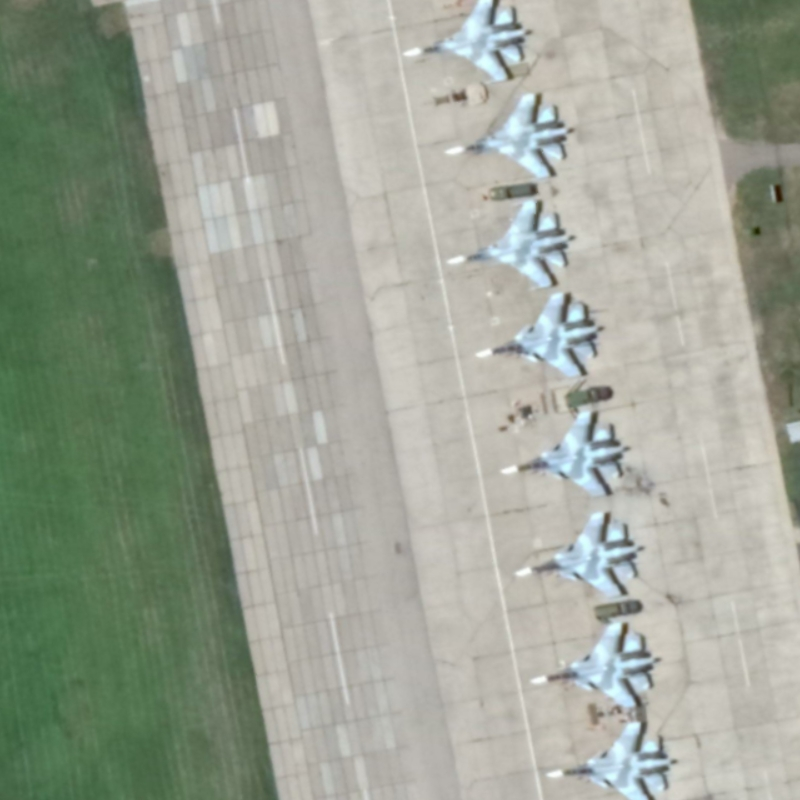A1: (444, 197, 570, 293), (441, 90, 569, 181), (400, 1, 529, 86)
A19: (498, 407, 627, 500), (513, 508, 640, 602), (527, 618, 656, 710), (472, 290, 600, 380), (543, 719, 675, 800)
